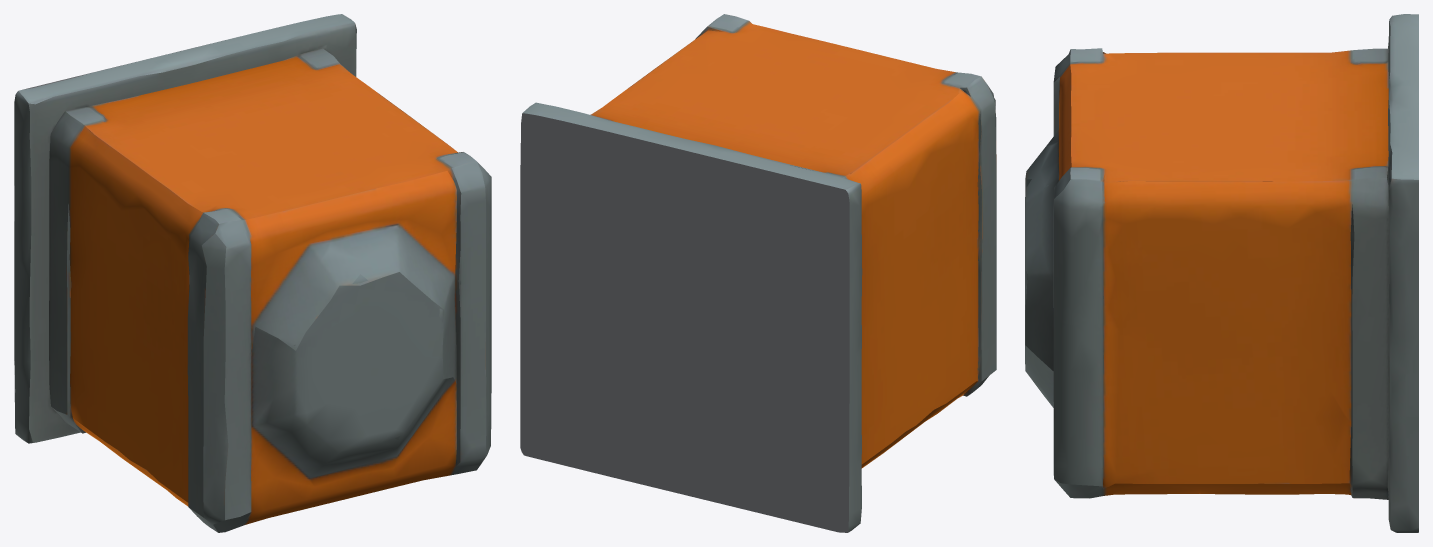
The model's file is compact_fabricator_mk1.glb.
3 views of the same model, side by side, from view 1: azimuth 30°, elevation 25°; view 2: azimuth 150°, elevation 25°; view 3: azimuth 270°, elevation 25° (orthographic). The views are drawn at different scales.
Visible parts, largest first — view 1: part; view 2: part; view 3: part.
Boxes of the visible parts, x1,y1,x2,y2 form: part: [14, 14, 491, 532]; part: [520, 14, 996, 532]; part: [1025, 14, 1418, 532].
Size of the model in its own units: 1.4 by 1.4 by 1.4.
Materials: 2 (1 with a texture image).
